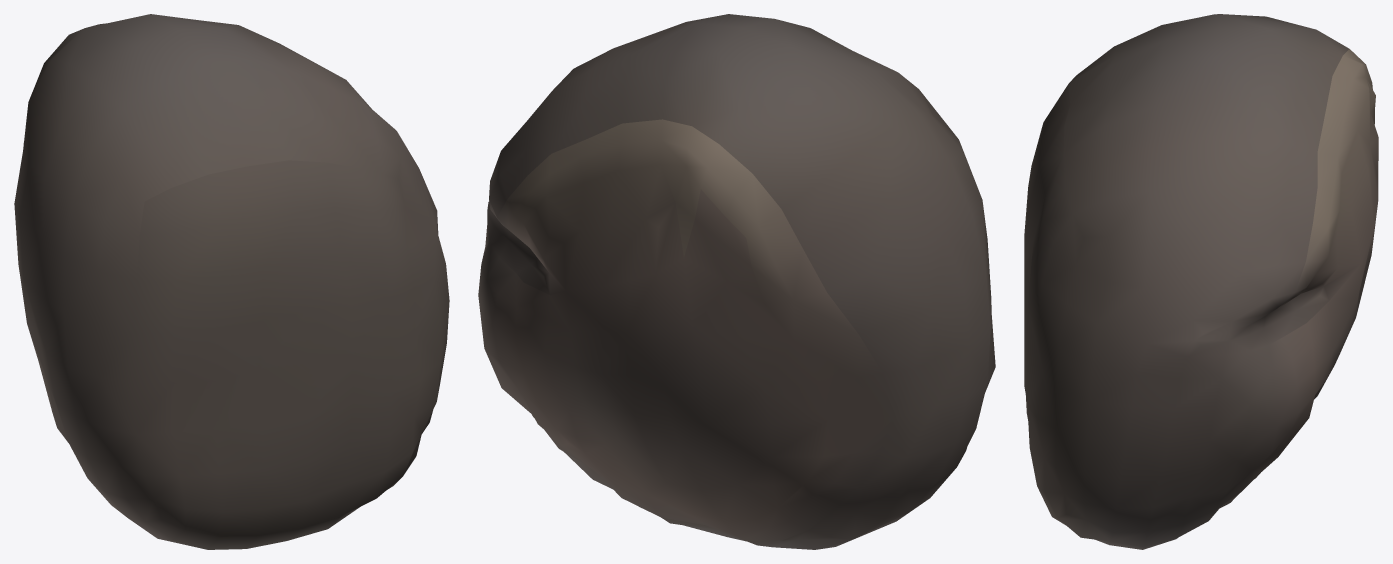
File: RockLarge.004.glb
3 views of the same model, side by side, from view 1: azimuth 30°, elevation 25°; view 2: azimuth 150°, elevation 25°; view 3: azimuth 270°, elevation 25° (orthographic). The views are drawn at different scales.
Visible parts, largest first — view 1: RockLarge.004; view 2: RockLarge.004; view 3: RockLarge.004.
Boxes of the visible parts, bbox=[...] form: RockLarge.004: bbox=[14, 14, 449, 549]; RockLarge.004: bbox=[478, 14, 995, 549]; RockLarge.004: bbox=[1024, 14, 1378, 549].
Bounding box in the file's own units: 854 × 996 × 674.
